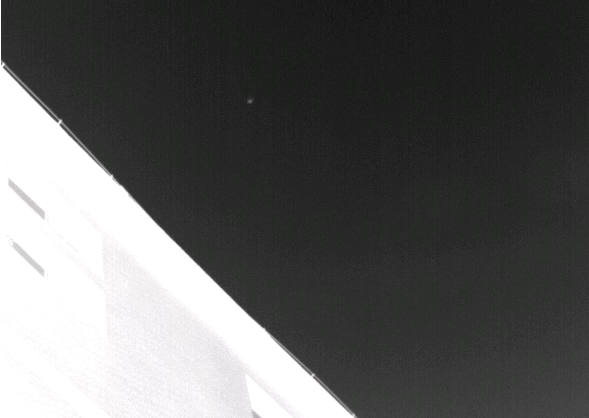dim target: (246, 98, 253, 104)
